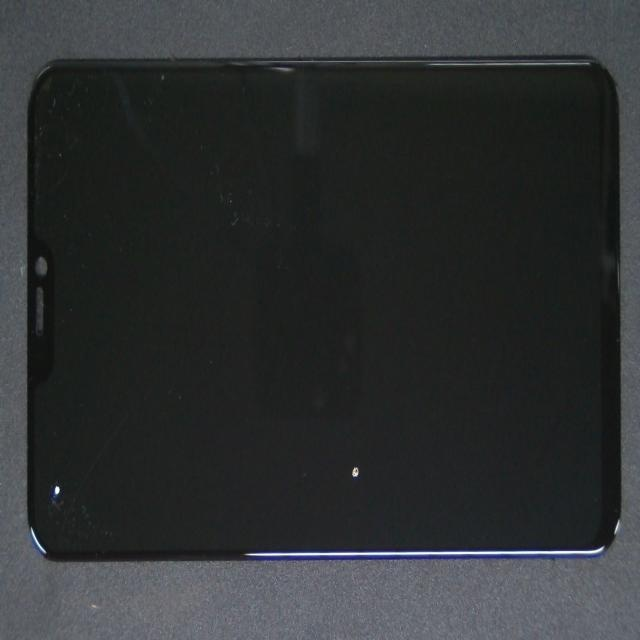stain: (192, 208, 526, 640), (34, 199, 79, 640)
